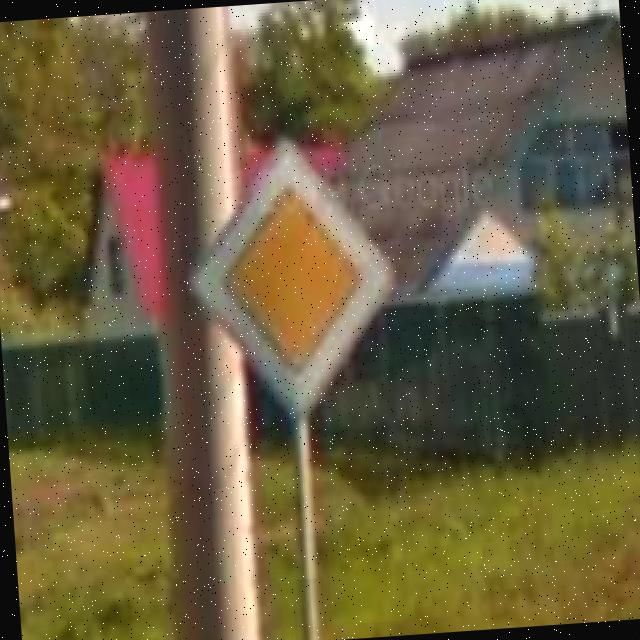Droga z pierwszenstwem: (175, 128, 405, 432)
